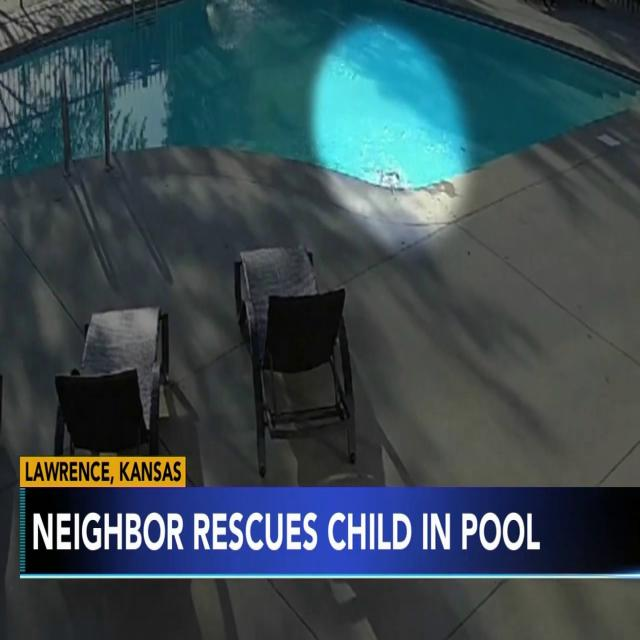child: (368, 157, 419, 196)
